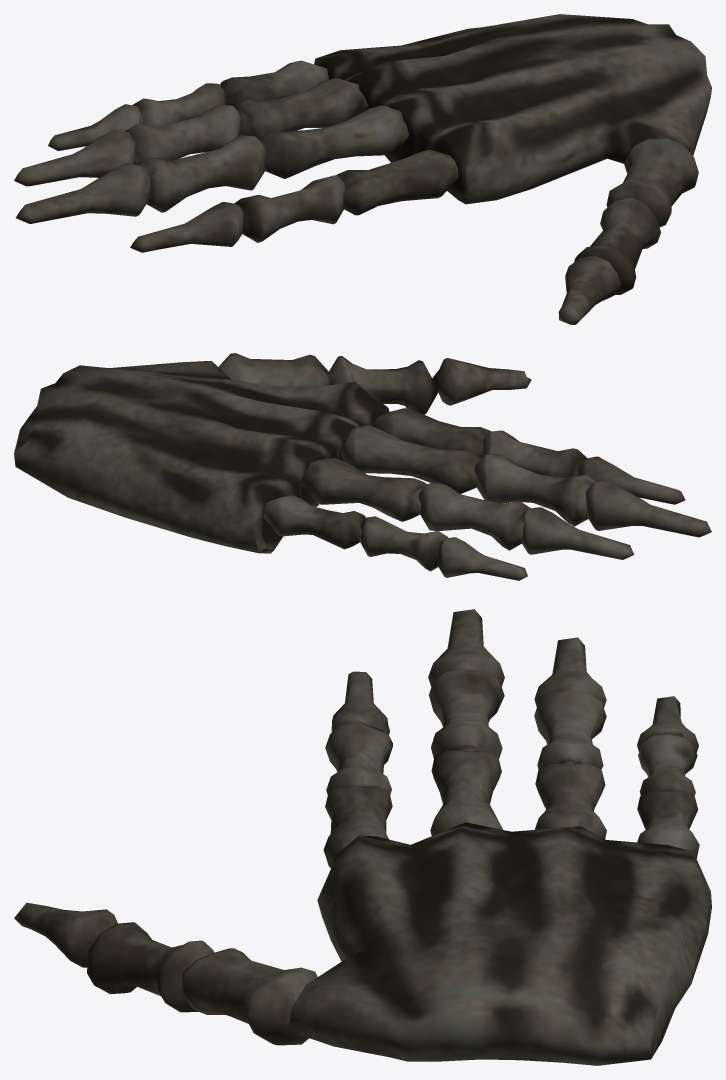
File: right_hand.obj
3 views of the same model, one above another, from view 1: azimuth 30°, elevation 25°; view 2: azimuth 150°, elevation 25°; view 3: azimuth 270°, elevation 25° (orthographic). The views are drawn at different scales.
Parts seen in each view (by area): view 1: hand_2_dr_Material; view 2: hand_2_dr_Material; view 3: hand_2_dr_Material.
Boxes of the visible parts, x1,y1,x2,y2 form: hand_2_dr_Material: (14,14,711,324); hand_2_dr_Material: (14,353,711,580); hand_2_dr_Material: (14,609,711,1065).
Size of the model in its own units: 0.1901 by 0.0301 by 0.1355.
